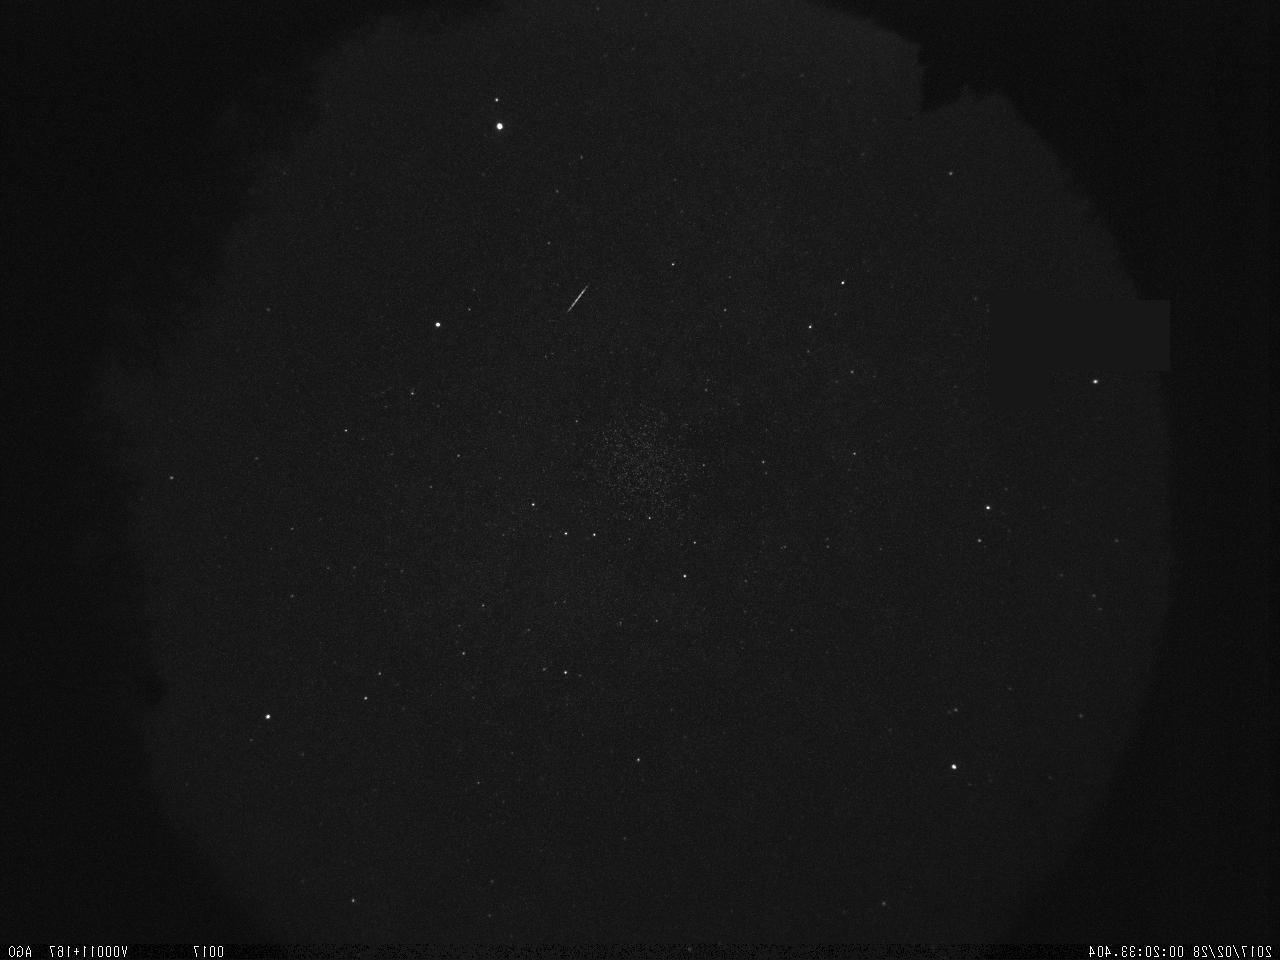meteor: (563, 266, 613, 346)
